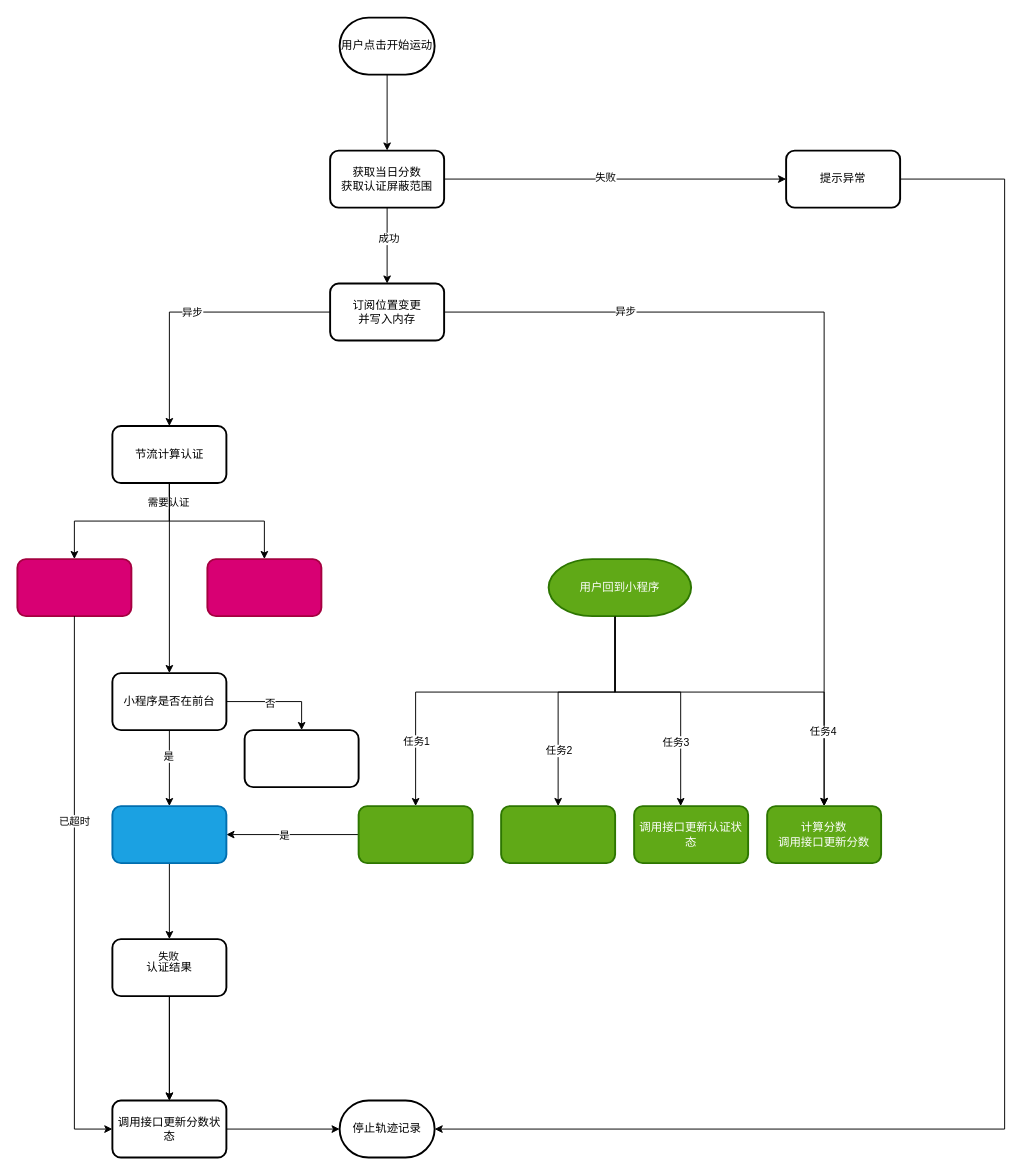
This 1029x1174 diagram has some shape labels left out. The box of each missing label's shape, as (x1, y1, x2, y2) in pixels:
播放音频提示: (206, 558, 322, 617)
检测是否需要认证: (357, 805, 473, 864)
检测超时: (16, 558, 132, 617)
设置需要认证状态(内存): (243, 729, 359, 788)
跳入指纹认证界面: (111, 805, 227, 864)
轨迹写入文件: (500, 805, 616, 864)
